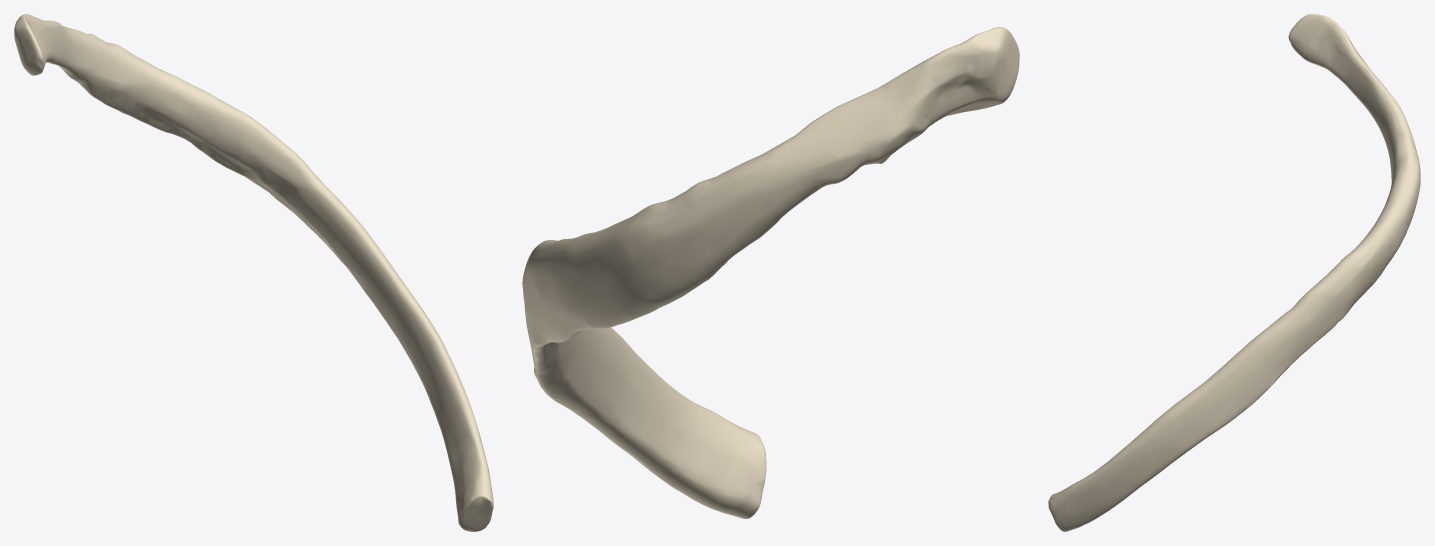
Rendered from ninth-rib-l.glb.
3 views of the same model, side by side, from view 1: azimuth 30°, elevation 25°; view 2: azimuth 150°, elevation 25°; view 3: azimuth 270°, elevation 25° (orthographic). The views are drawn at different scales.
Visible parts, largest first — view 1: Ninth rib.l; view 2: Ninth rib.l; view 3: Ninth rib.l.
Boxes of the visible parts, bbox=[...] form: Ninth rib.l: bbox=[14, 14, 493, 531]; Ninth rib.l: bbox=[522, 27, 1019, 518]; Ninth rib.l: bbox=[1048, 14, 1420, 531].
Bounding box in the file's own units: 0.1152 × 0.1551 × 0.1324.
